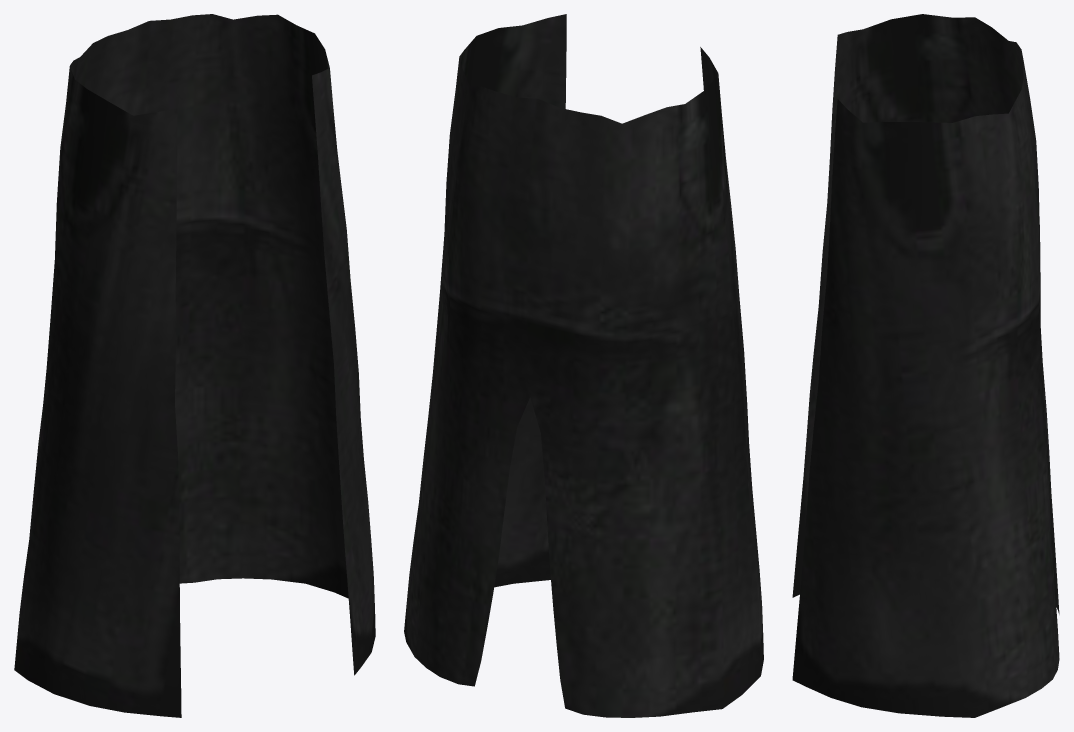
File: Male_Duster.obj
3 renders of one model, left to right at view 1: azimuth 30°, elevation 25°; view 2: azimuth 150°, elevation 25°; view 3: azimuth 270°, elevation 25°, orthographic. The views are drawn at different scales.
Parts seen in each view (by area): view 1: DusterFree_Duster.002; view 2: DusterFree_Duster.002; view 3: DusterFree_Duster.002.
Boxes of the visible parts, left/top/right/bottom form: DusterFree_Duster.002: left=14, top=14, right=375, bottom=717; DusterFree_Duster.002: left=404, top=14, right=763, bottom=717; DusterFree_Duster.002: left=792, top=14, right=1059, bottom=717.
Size of the model in its own units: 2.57 by 4.46 by 1.88.
